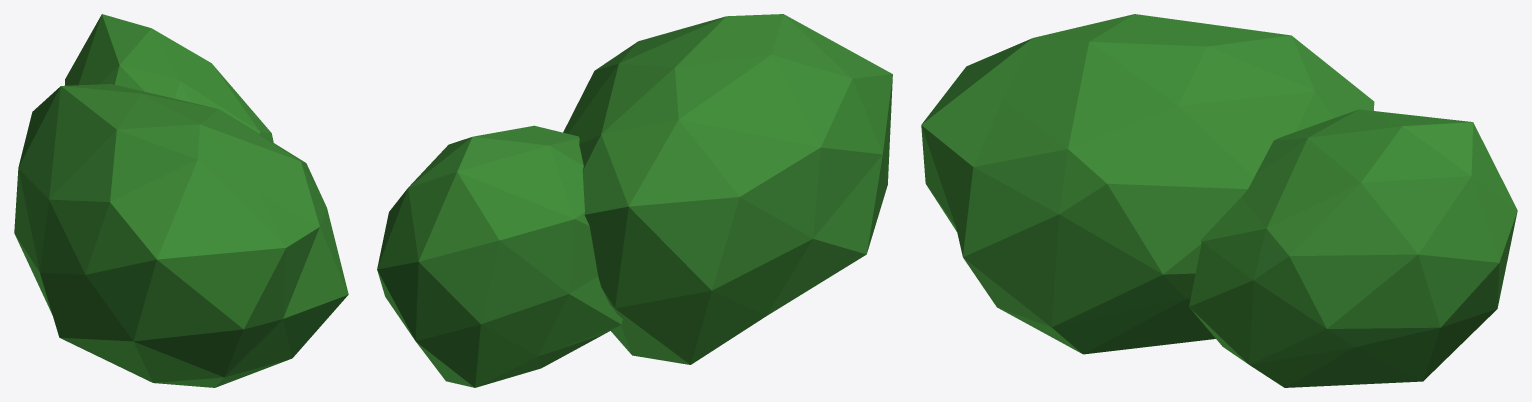
File: buisson_plaines.fbx
3 views of the same model, side by side, from view 1: azimuth 30°, elevation 25°; view 2: azimuth 150°, elevation 25°; view 3: azimuth 270°, elevation 25° (orthographic). The views are drawn at different scales.
Visible parts, largest first — view 1: Bush; view 2: Bush; view 3: Bush.
Part boxes in pixels (<box>): Bush: <box>14,14,348,387</box>; Bush: <box>377,14,892,387</box>; Bush: <box>921,14,1517,387</box>.
Size of the model in its own units: 240 by 192 by 362.
